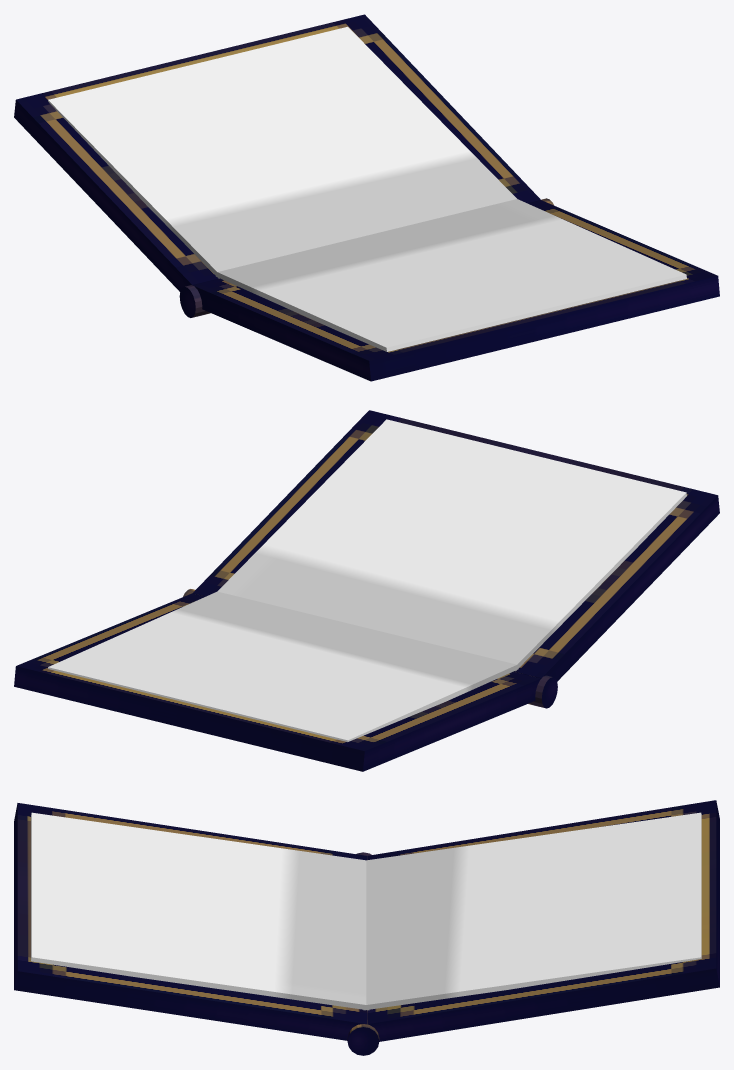
Rendered from livromagico.fbx.
The picture shows the model from 3 angles, top to bottom: view 1: azimuth 30°, elevation 25°; view 2: azimuth 150°, elevation 25°; view 3: azimuth 270°, elevation 25°; orthographic projection.
Visible parts, largest first — view 1: Plane.001, Plane, Cube, Cube.001, Cylinder; view 2: Plane, Plane.001, Cube.001, Cube, Cylinder; view 3: Plane, Plane.001, Cube.001, Cube, Cylinder.
Boxes of the visible parts, x1,y1,x2,y2 form: Plane.001: (48,26,516,278); Plane: (215,199,686,351); Cube: (193,200,719,381); Cube.001: (14,14,540,291); Cylinder: (179,198,553,317); Plane: (217,419,686,671); Plane.001: (48,591,518,741); Cube.001: (14,593,541,771); Cube: (193,410,719,681); Cylinder: (183,589,557,708); Plane: (31,812,369,1010); Plane.001: (363,812,701,1010); Cube.001: (367,800,719,1041); Cube: (14,803,366,1040); Cylinder: (347,852,379,1055).
Bounding box in the file's own units: 104 × 23.34 × 177.
5 materials, 5 textured.
